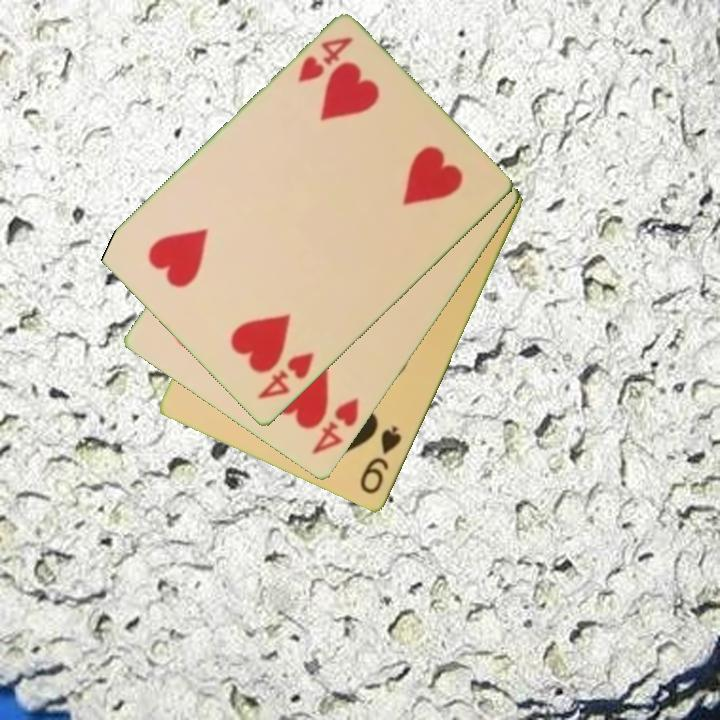4h: (253, 349, 318, 403), (308, 395, 362, 459), (294, 34, 356, 86)
9s: (356, 423, 405, 498)
